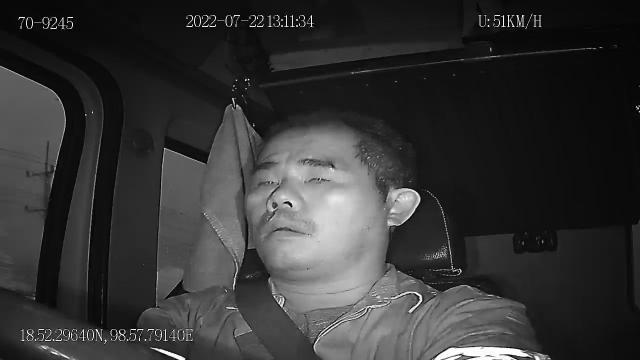SafeDriving: (296, 162, 338, 188), (247, 168, 282, 195)
Seatbelt: (233, 276, 321, 360)
